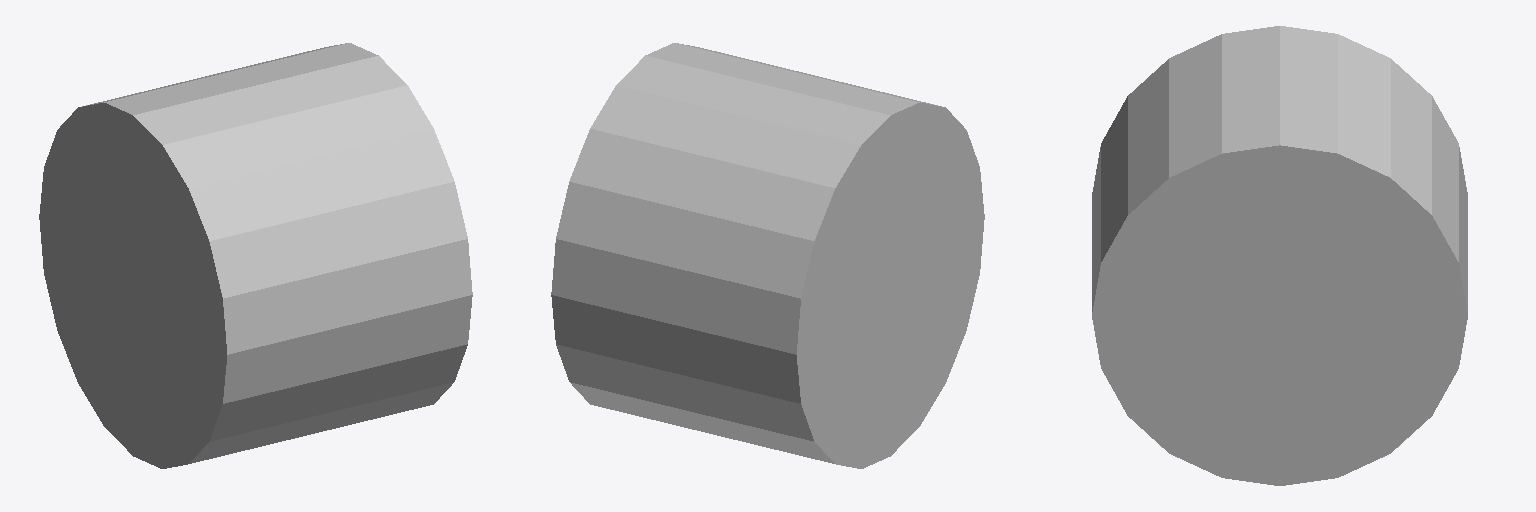
File: Resaltado_Auriculotemporal_I_3.obj
3 views of the same model, side by side, from view 1: azimuth 30°, elevation 25°; view 2: azimuth 150°, elevation 25°; view 3: azimuth 270°, elevation 25° (orthographic).
Parts seen in each view (by area): view 1: polySurface9 Marcadores1; view 2: polySurface9 Marcadores1; view 3: polySurface9 Marcadores1.
Part boxes in pixels (x1,y1,x2,y2): polySurface9 Marcadores1: (39,43,472,468); polySurface9 Marcadores1: (551,43,984,468); polySurface9 Marcadores1: (1092,26,1467,485).
Size of the model in its own units: 0.021 by 0.0279 by 0.0279.